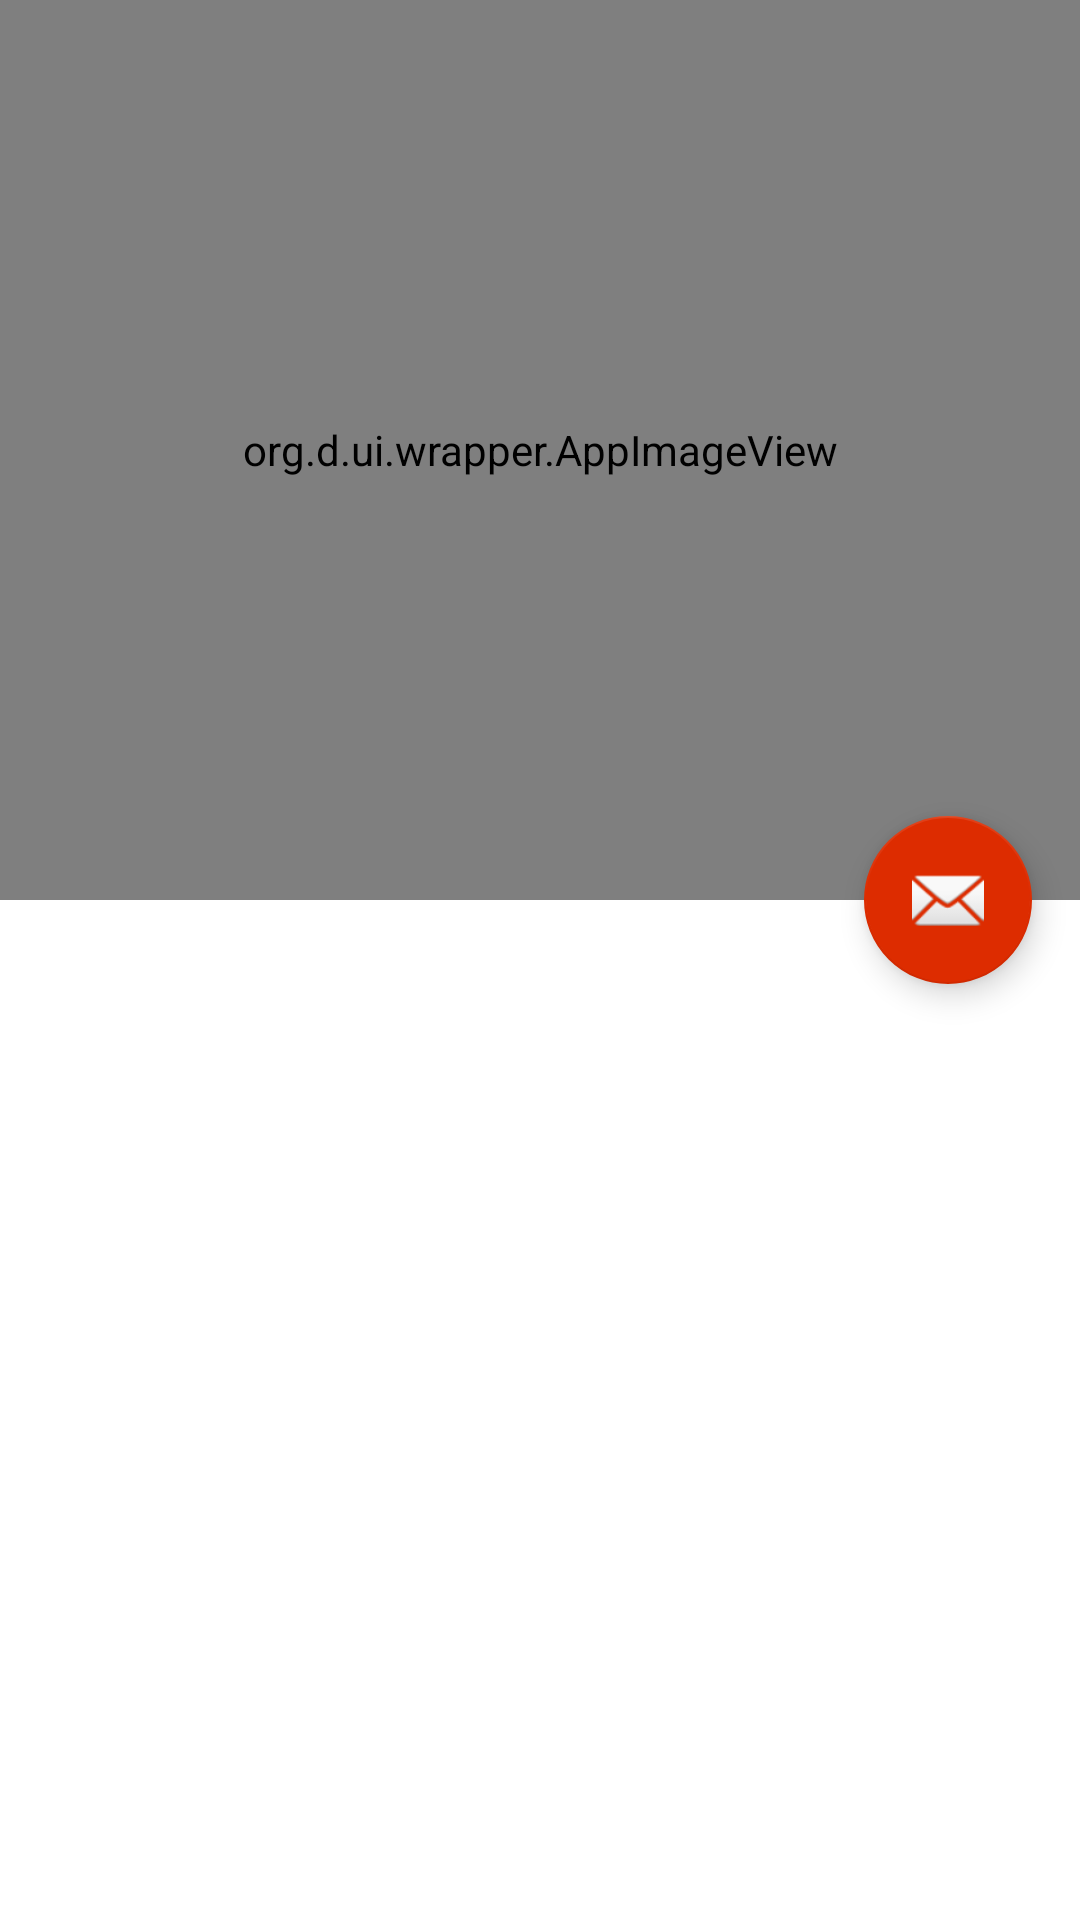

Icons on this 1080x1920 Android screen, each with the point to tap as point (x, y):
email: point (948, 900)
